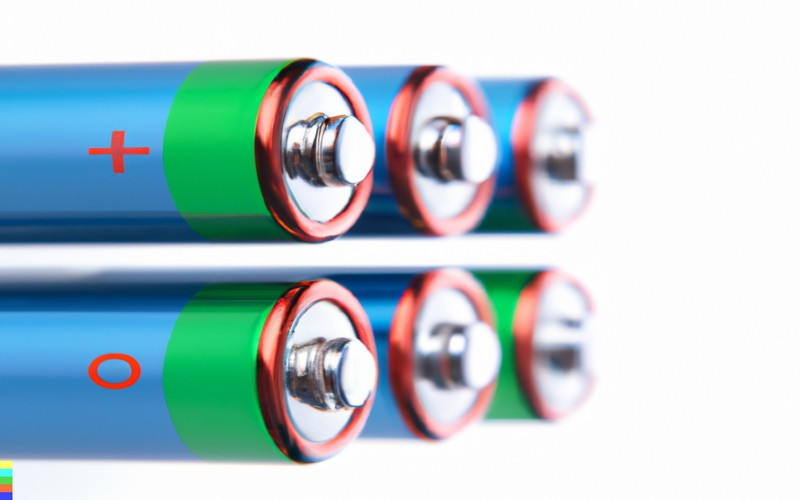Battery: (0, 30, 614, 259), (0, 267, 619, 466)
